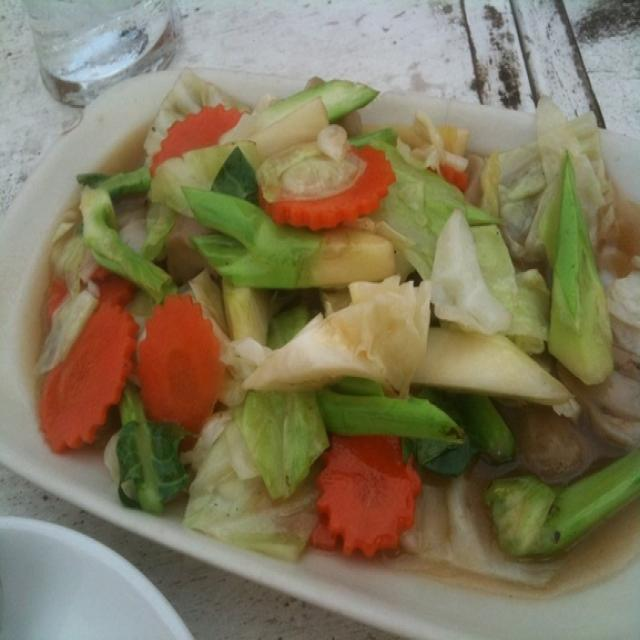蔬菜料理: (28, 28, 628, 602)
